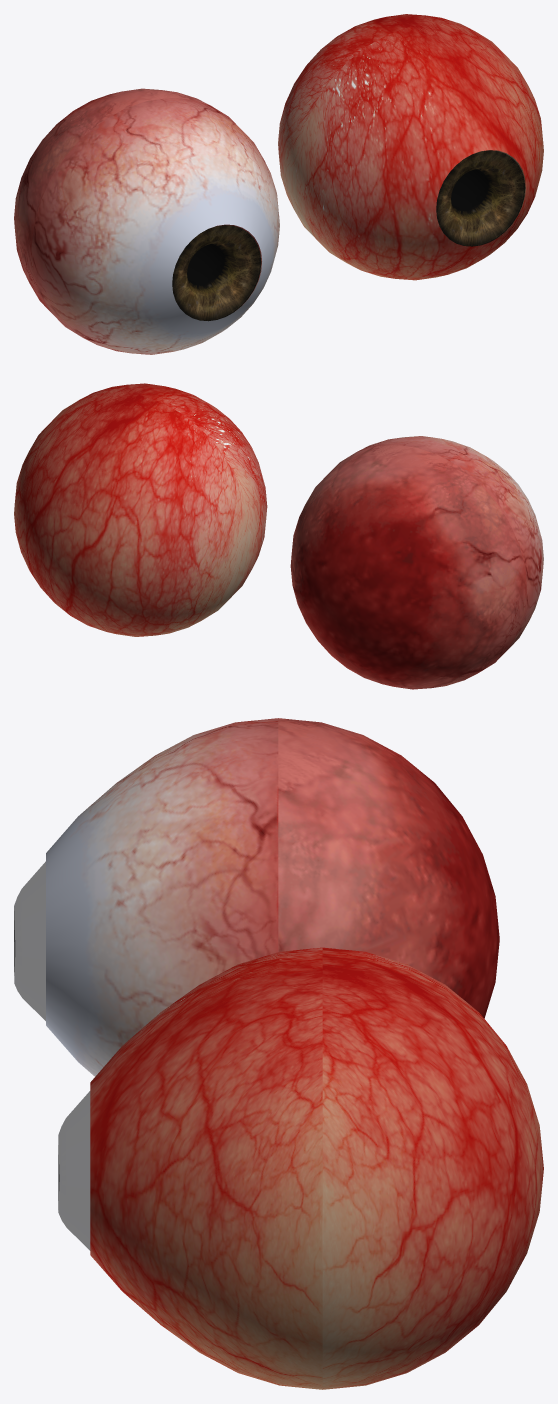
The model's file is eye-infected.glb.
3 renders of one model, top to bottom at view 1: azimuth 30°, elevation 25°; view 2: azimuth 150°, elevation 25°; view 3: azimuth 270°, elevation 25°, orthographic. The views are drawn at different scales.
Visible parts, largest first — view 1: Sclera, ScleraInfected, Iris, Iris.001, Cornea.001, Cornea; view 2: Sclera, ScleraInfected; view 3: ScleraInfected, Sclera, Cornea, Cornea.001.
Boxes of the visible parts, x1,y1,x2,y2 form: Sclera: [14, 88, 279, 354]; ScleraInfected: [278, 14, 543, 280]; Iris: [436, 150, 525, 246]; Iris.001: [172, 225, 261, 321]; Cornea.001: [173, 225, 259, 319]; Cornea: [437, 150, 523, 244]; Sclera: [290, 436, 543, 689]; ScleraInfected: [14, 383, 267, 636]; ScleraInfected: [90, 947, 543, 1389]; Sclera: [46, 718, 499, 1076]; Cornea: [58, 1091, 90, 1250]; Cornea.001: [14, 861, 45, 1020].
Bounding box in the file's own units: 4.4 × 2.02 × 2.39.
Materials: 4 (3 with a texture image).
